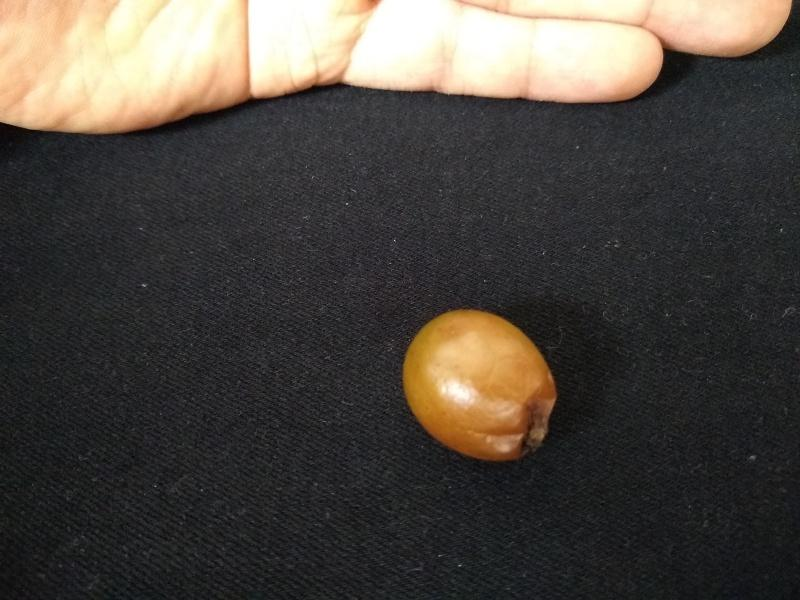Grape Rotten: (401, 306, 558, 463)
